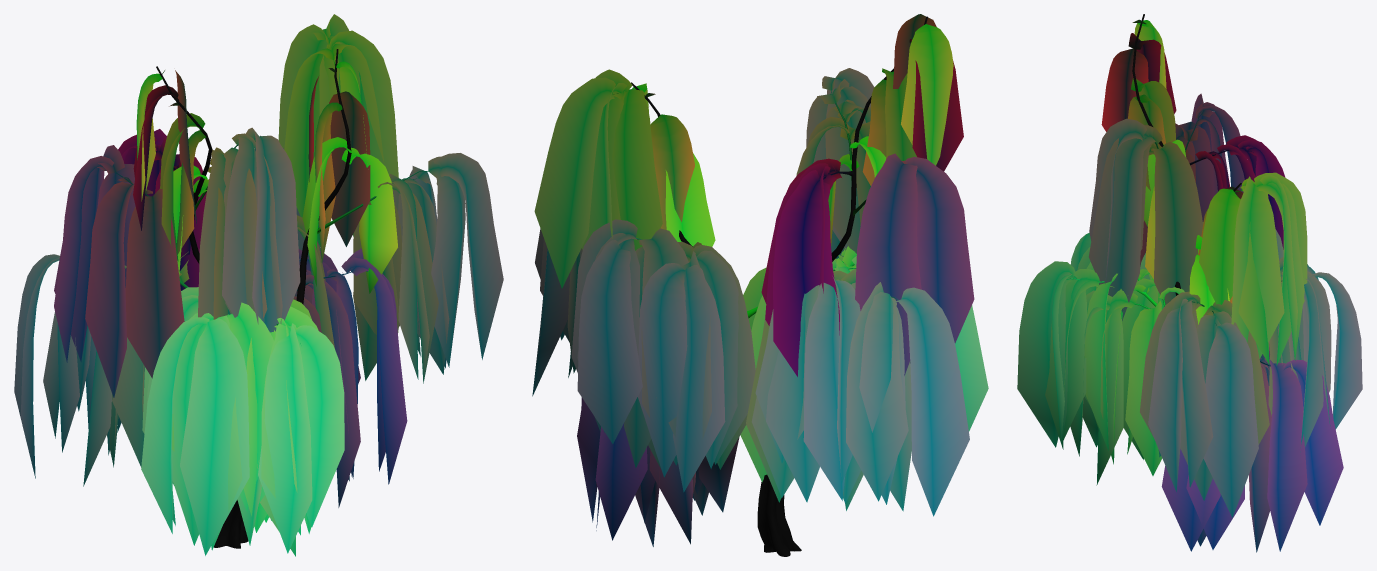
File: willow_tree.fbx
3 views of the same model, side by side, from view 1: azimuth 30°, elevation 25°; view 2: azimuth 150°, elevation 25°; view 3: azimuth 270°, elevation 25° (orthographic). The views are drawn at different scales.
Visible parts, largest first — view 1: Tree_1, Tree_0; view 2: Tree_1, Tree_0; view 3: Tree_1, Tree_0.
Boxes of the visible parts, left/top/right/bottom form: Tree_1: left=14, top=14, right=503, bottom=556; Tree_0: left=102, top=49, right=428, bottom=548; Tree_1: left=532, top=14, right=988, bottom=546; Tree_0: left=613, top=16, right=927, bottom=556; Tree_1: left=1017, top=19, right=1362, bottom=552; Tree_0: left=1066, top=14, right=1282, bottom=366.
Size of the model in its own units: 725 by 802 by 554.
